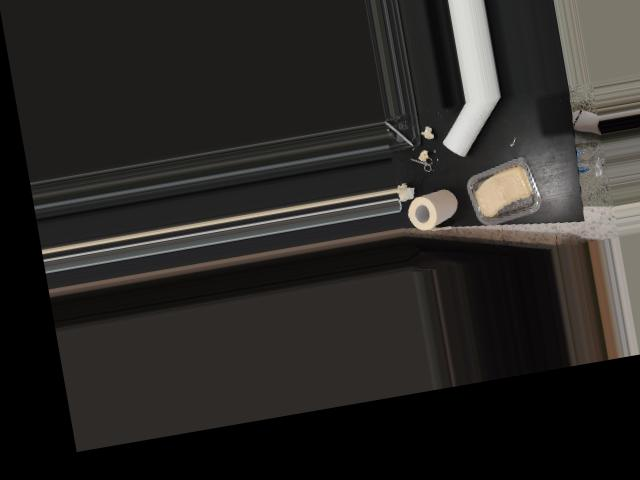cheese: (463, 157, 544, 223)
